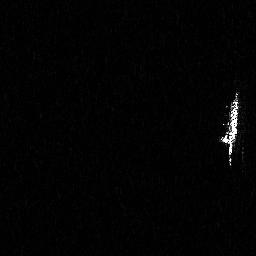ship: (219, 90, 241, 170)
